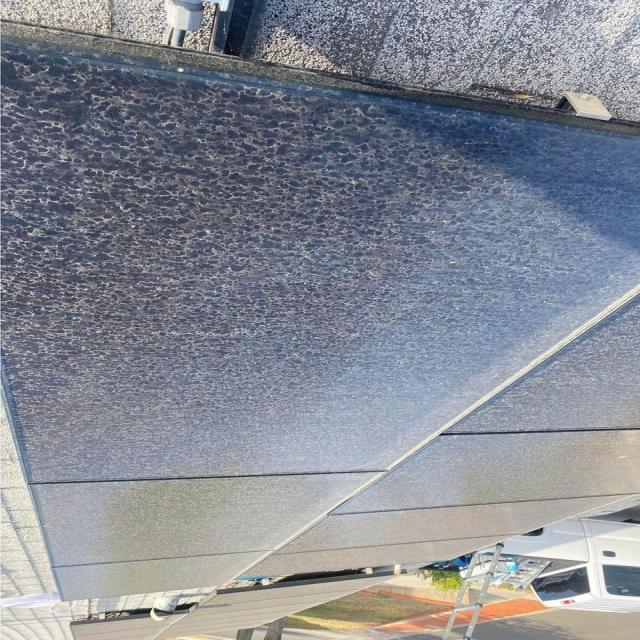soiled: (0, 22, 625, 566)
